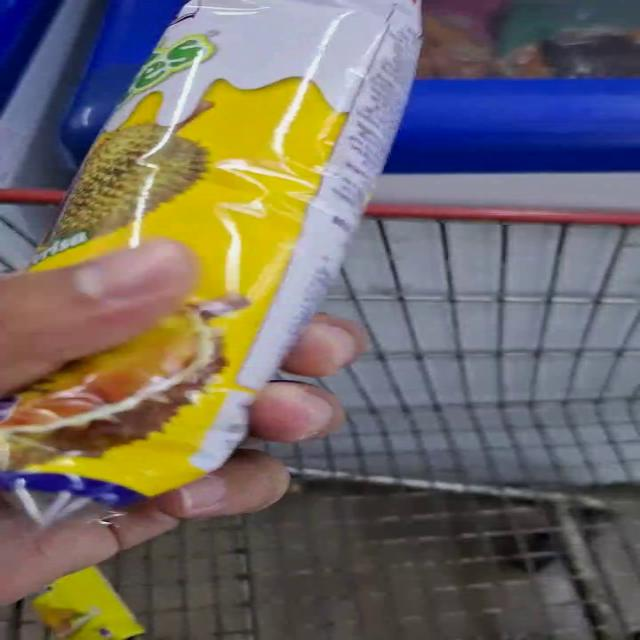Roti: (0, 145, 367, 502), (112, 0, 486, 246), (18, 558, 188, 640)
